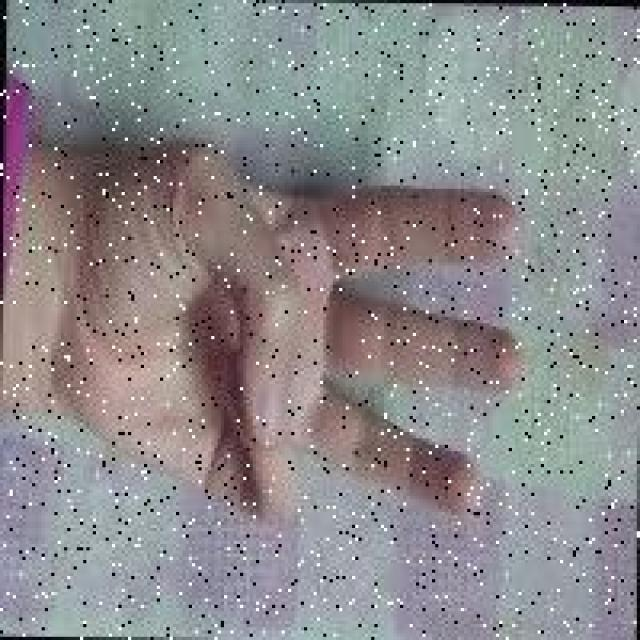W: (125, 110, 544, 578)
